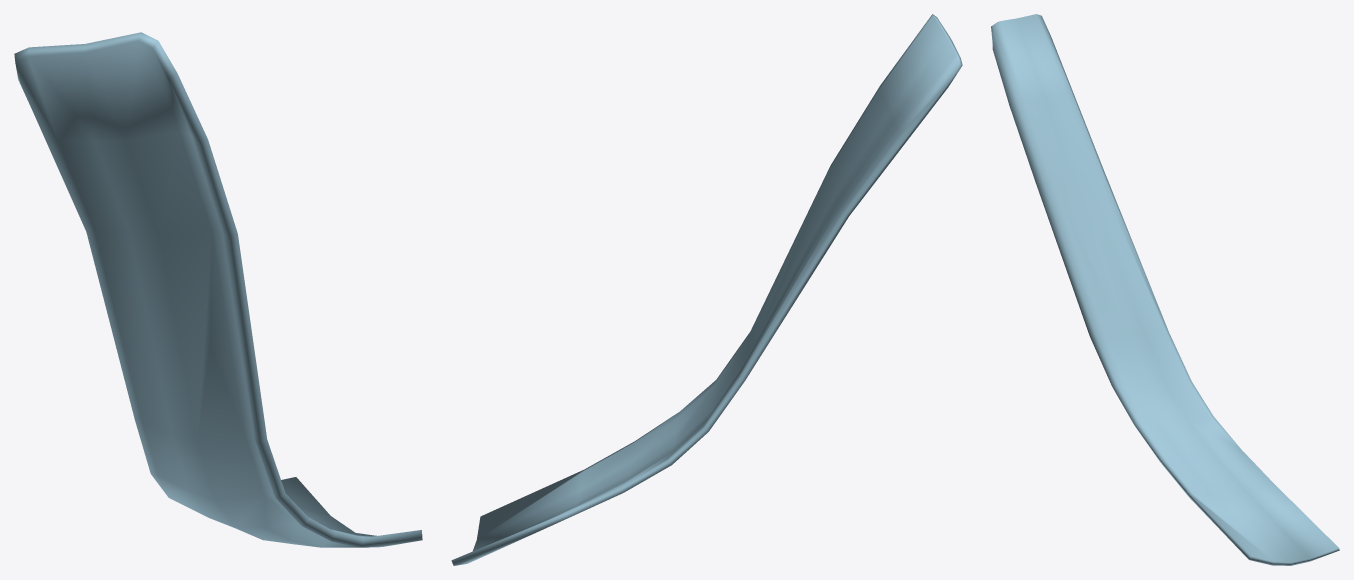
The model's file is articulacoes-pubofemoral-ligament-l.glb.
3 renders of one model, left to right at view 1: azimuth 30°, elevation 25°; view 2: azimuth 150°, elevation 25°; view 3: azimuth 270°, elevation 25°, orthographic. The views are drawn at different scales.
Visible parts, largest first — view 1: Pubofemoral ligament.l; view 2: Pubofemoral ligament.l; view 3: Pubofemoral ligament.l.
Part boxes in pixels (x1,y1,x2,y2): Pubofemoral ligament.l: (14,32,422,547); Pubofemoral ligament.l: (451,14,962,565); Pubofemoral ligament.l: (991,14,1339,565).
Bounding box in the file's own units: 0.0343 × 0.0446 × 0.0334.
